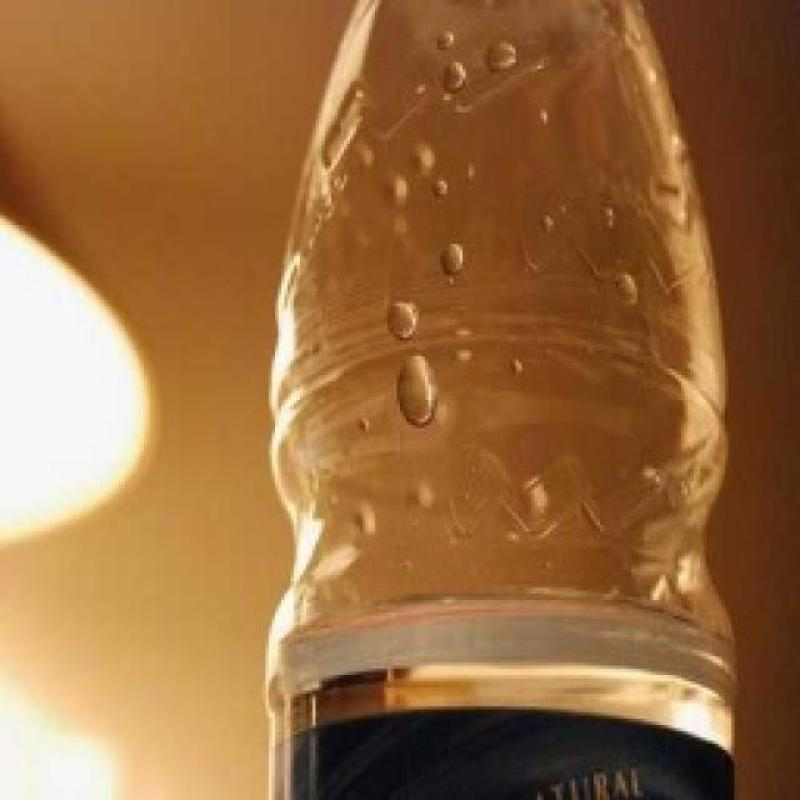botella: (268, 0, 742, 800)
